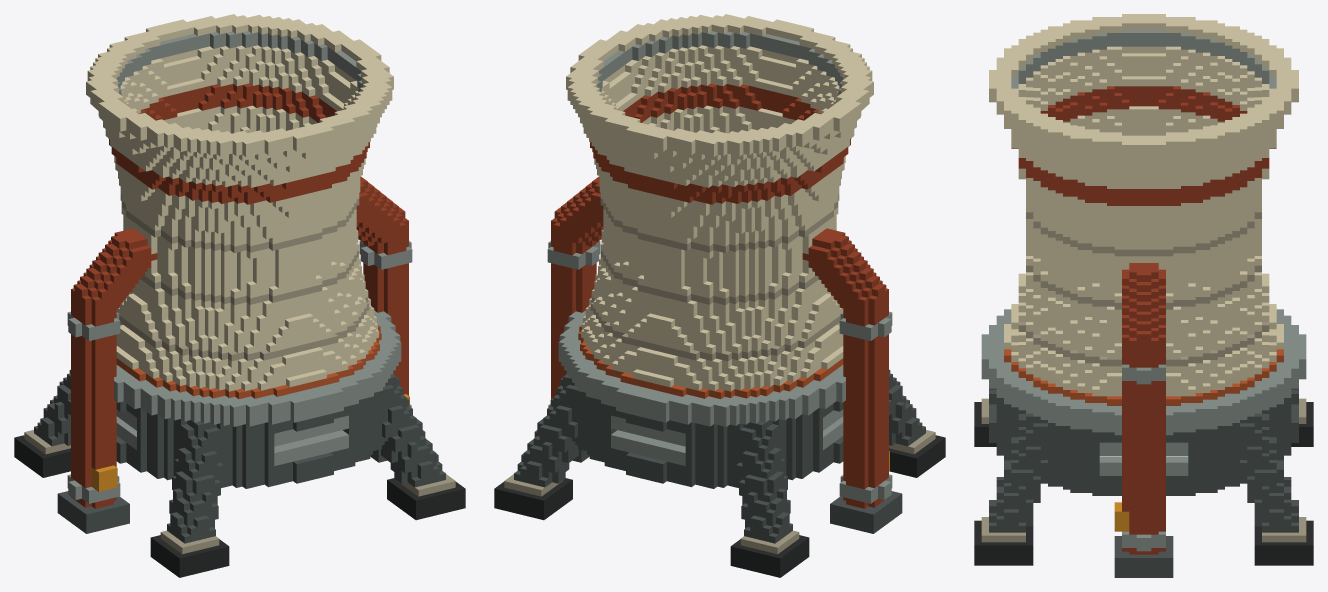
Rendered from cooling_tower.glb.
3 renders of one model, left to right at view 1: azimuth 30°, elevation 25°; view 2: azimuth 150°, elevation 25°; view 3: azimuth 270°, elevation 25°, orthographic. The views are drawn at different scales.
Visible parts, largest first — view 1: cooling_tower; view 2: cooling_tower; view 3: cooling_tower.
Boxes of the visible parts, <box> form: cooling_tower: <box>14,14,465,577</box>; cooling_tower: <box>494,14,945,577</box>; cooling_tower: <box>974,14,1313,577</box>.
Bounding box in the file's own units: 5.4 × 6.2 × 4.6.
